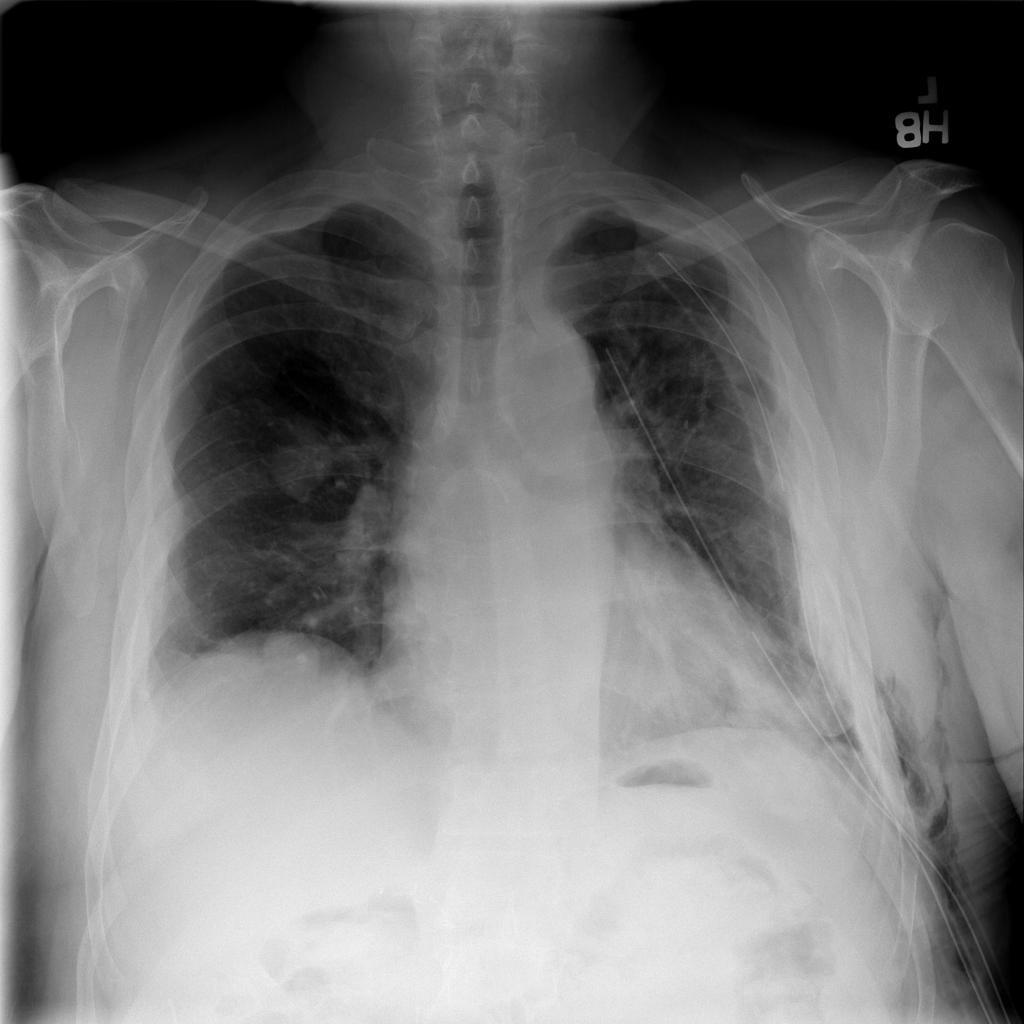nodule: (251, 408, 354, 517), (256, 622, 334, 698)
